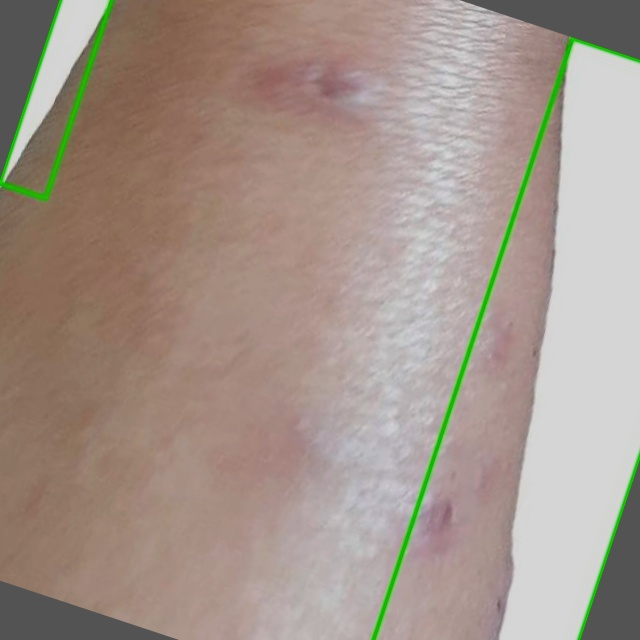Eczema: (373, 38, 639, 639), (0, 0, 111, 198)
